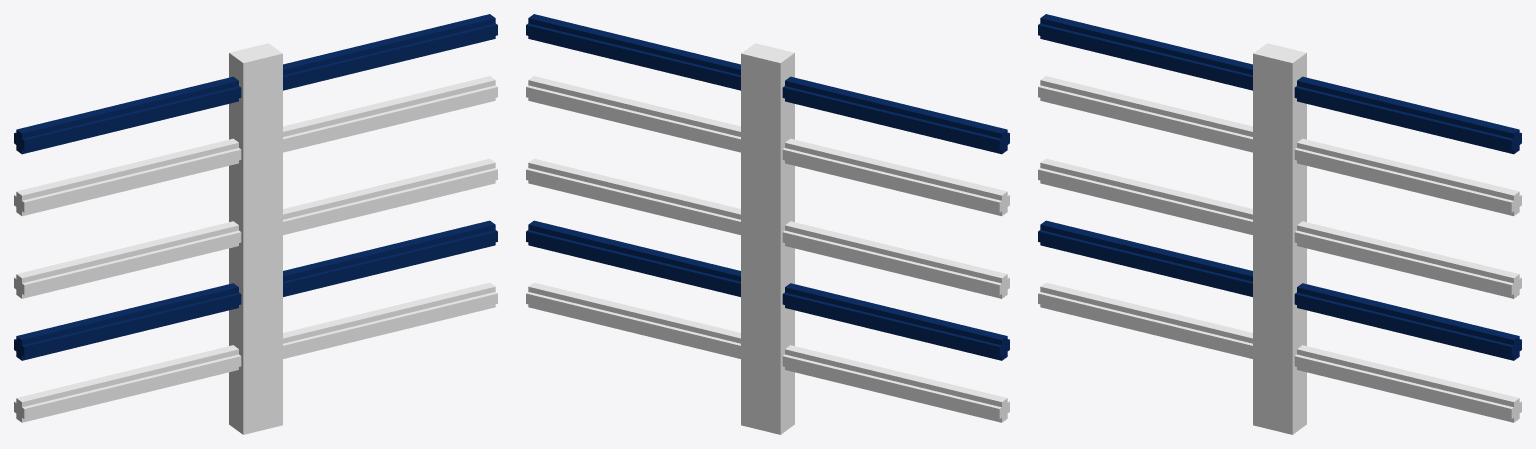
File: scotrail_fence.obj
The picture shows the model from 3 angles, left to right: view 1: azimuth 30°, elevation 25°; view 2: azimuth 150°, elevation 25°; view 3: azimuth 330°, elevation 25°; orthographic projection.
Parts seen in each view (by area): view 1: cube; view 2: cube; view 3: cube.
Part boxes in pixels (<box>): cube: <box>14,14,497,434</box>; cube: <box>526,14,1009,434</box>; cube: <box>1038,14,1521,434</box>.
Size of the model in its own units: 1.5 by 1.12 by 0.0781.
